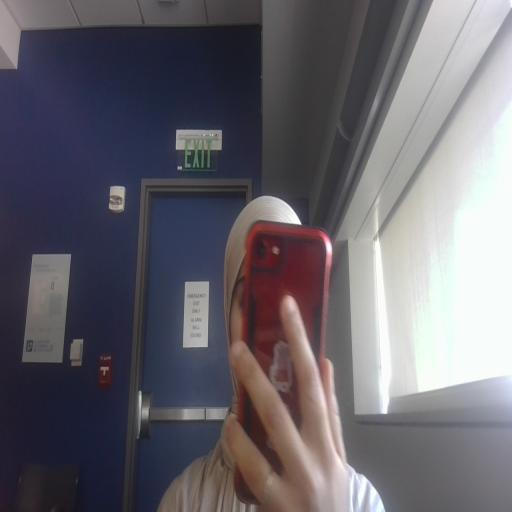phone: (224, 220, 362, 504)
